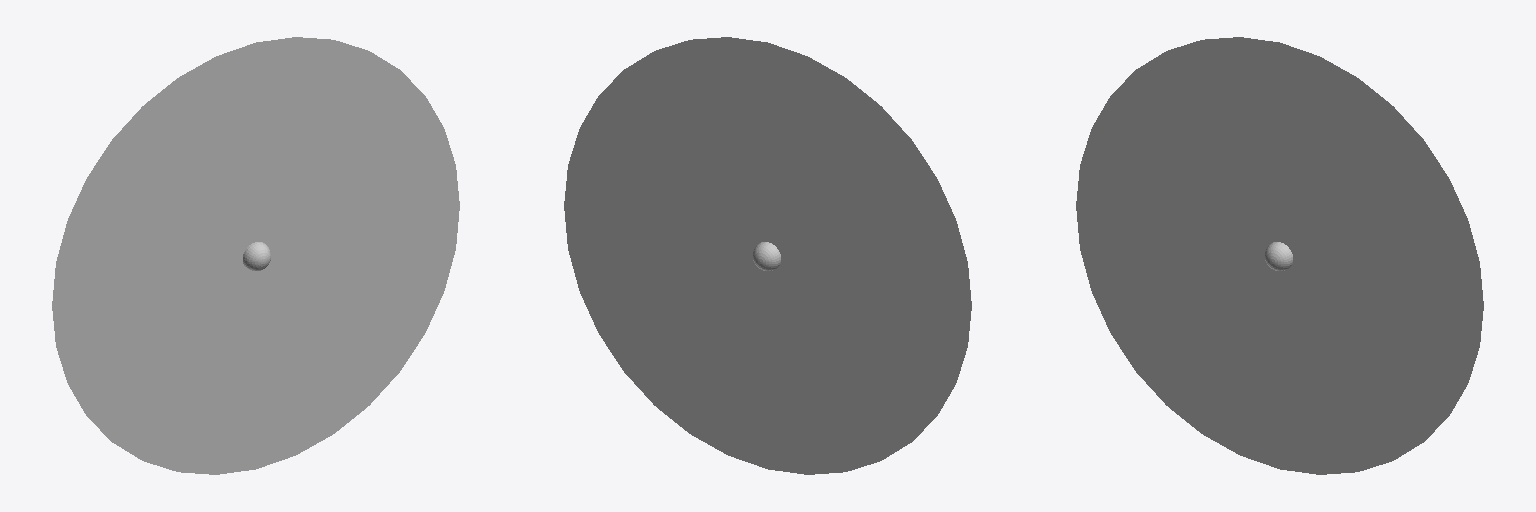
Rendered from Sun Model.obj.
The picture shows the model from 3 angles: view 1: azimuth 30°, elevation 25°; view 2: azimuth 150°, elevation 25°; view 3: azimuth 330°, elevation 25°; orthographic projection.
Bounding box in the file's own units: 248 × 248 × 16.24.